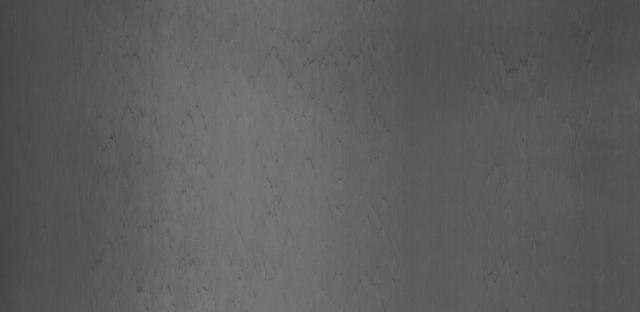silk_spot: (88, 201, 273, 303), (82, 44, 195, 179), (223, 36, 348, 126)
